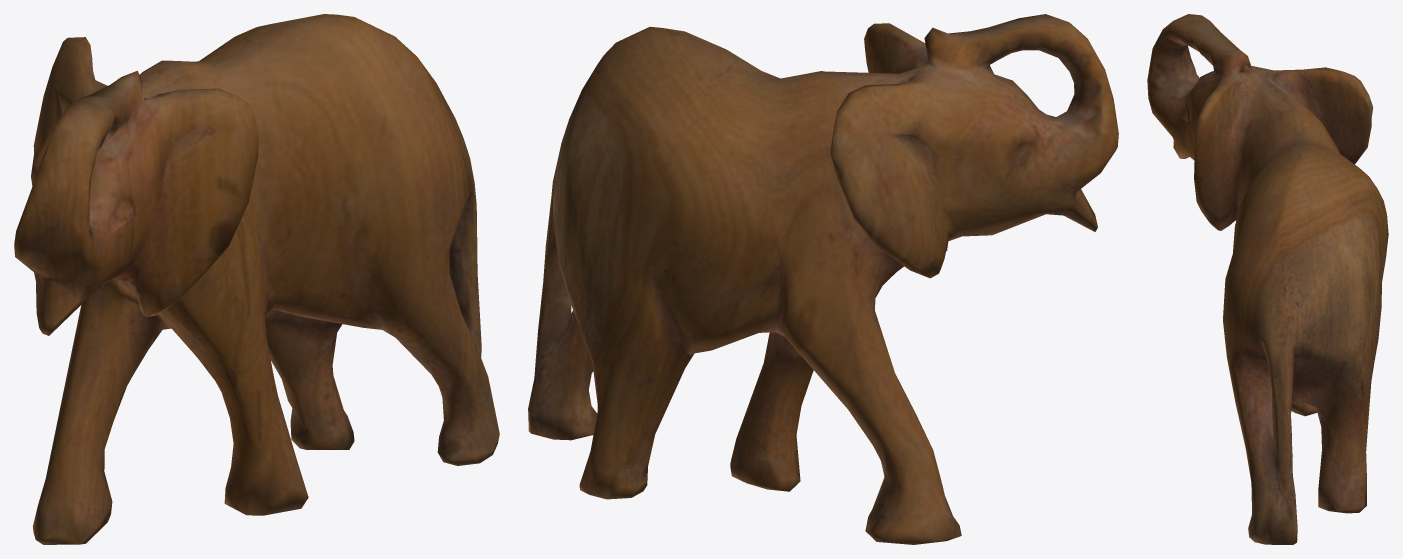
File: carved_wooden_elephant.glb
3 renders of one model, left to right at view 1: azimuth 30°, elevation 25°; view 2: azimuth 150°, elevation 25°; view 3: azimuth 270°, elevation 25°, orthographic. The views are drawn at different scales.
Visible parts, largest first — view 1: carved_wooden_elephant; view 2: carved_wooden_elephant; view 3: carved_wooden_elephant.
Part boxes in pixels (bbox=[...]): carved_wooden_elephant: bbox=[14, 14, 499, 544]; carved_wooden_elephant: bbox=[528, 14, 1118, 544]; carved_wooden_elephant: bbox=[1147, 14, 1388, 544].
Size of the model in its own units: 0.109 by 0.0961 by 0.0576.
1 material, 1 textured.
